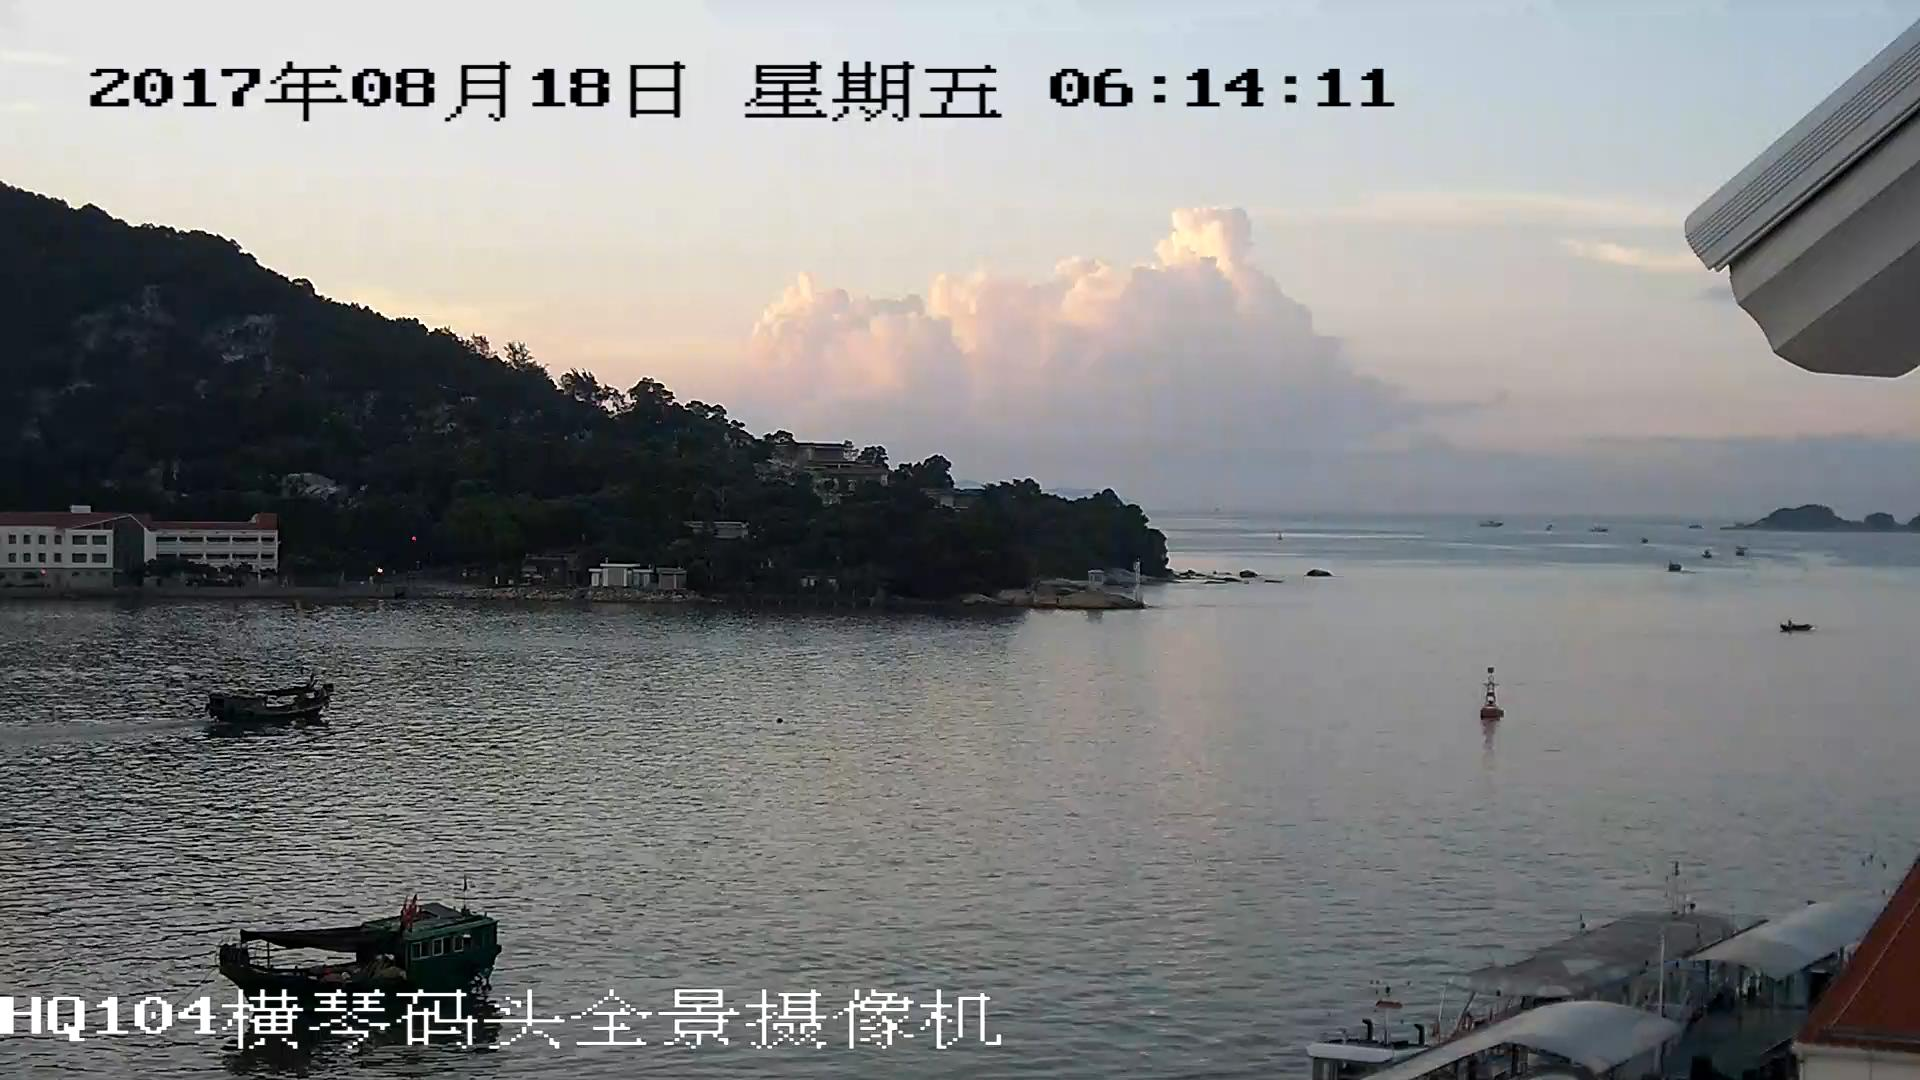fishing boat: (222, 895, 502, 988), (211, 685, 336, 722)
